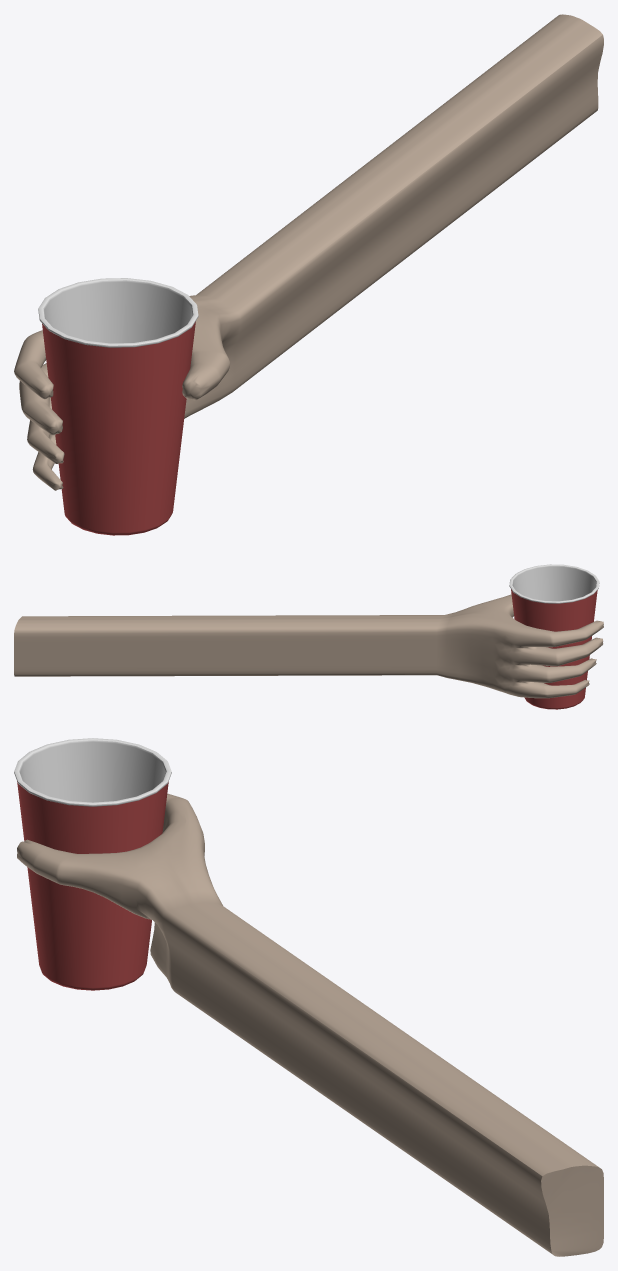
Rendered from M_HandAndCup.fbx.
The picture shows the model from 3 angles, top to bottom: view 1: azimuth 30°, elevation 25°; view 2: azimuth 150°, elevation 25°; view 3: azimuth 270°, elevation 25°; orthographic projection. The views are drawn at different scales.
Parts seen in each view (by area): view 1: pCube1, pCylinder1; view 2: pCube1, pCylinder1; view 3: pCube1, pCylinder1.
Part boxes in pixels (box(x1,y1,x2,y2)): pCube1: box(14, 14, 603, 490); pCylinder1: box(38, 278, 198, 535); pCube1: box(14, 594, 603, 698); pCylinder1: box(509, 564, 599, 709); pCube1: box(17, 793, 603, 1256); pCylinder1: box(14, 738, 171, 990).
Size of the model in its own units: 74.15 by 18.05 by 48.51.
